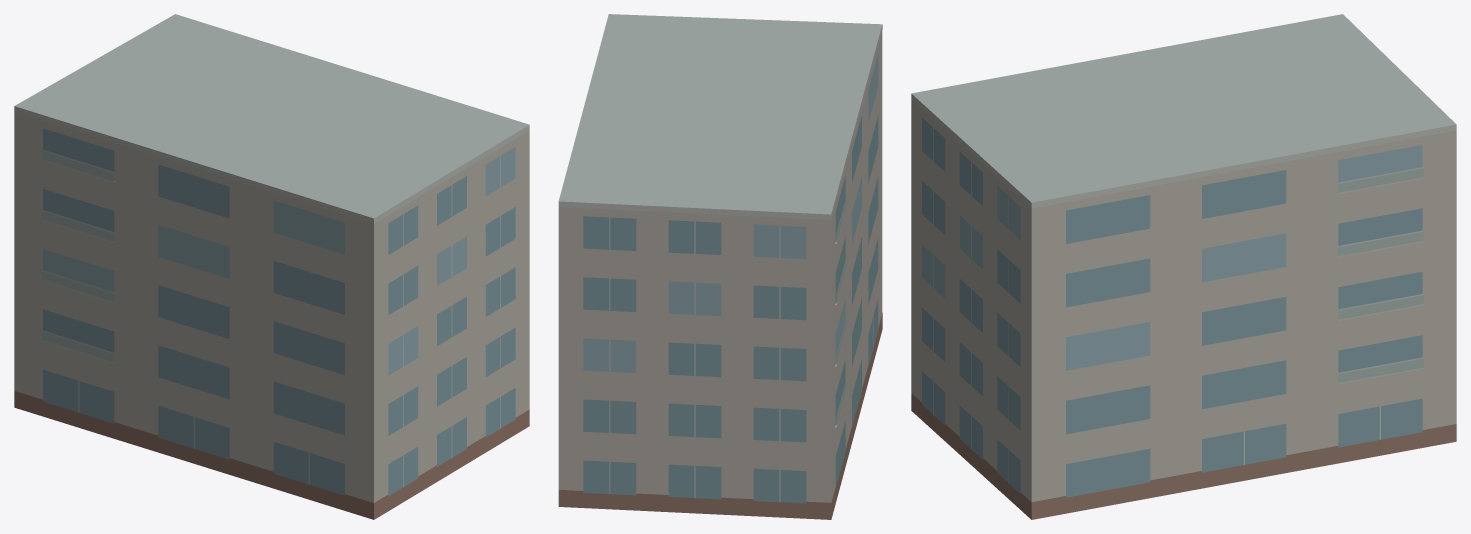
File: survey-upis-32697356.glb
The picture shows the model from 3 angles, left to right: view 1: azimuth 30°, elevation 25°; view 2: azimuth 150°, elevation 25°; view 3: azimuth 270°, elevation 25°; orthographic projection. The views are drawn at different scales.
Parts seen in each view (by area): view 1: survey-upis-32697356.tmp; view 2: survey-upis-32697356.tmp; view 3: survey-upis-32697356.tmp.
Boxes of the visible parts, x1,y1,x2,y2 form: survey-upis-32697356.tmp: [14, 14, 529, 519]; survey-upis-32697356.tmp: [558, 14, 882, 519]; survey-upis-32697356.tmp: [911, 14, 1456, 519].
Bounding box in the file's own units: 17.24 × 13.5 × 21.05.
